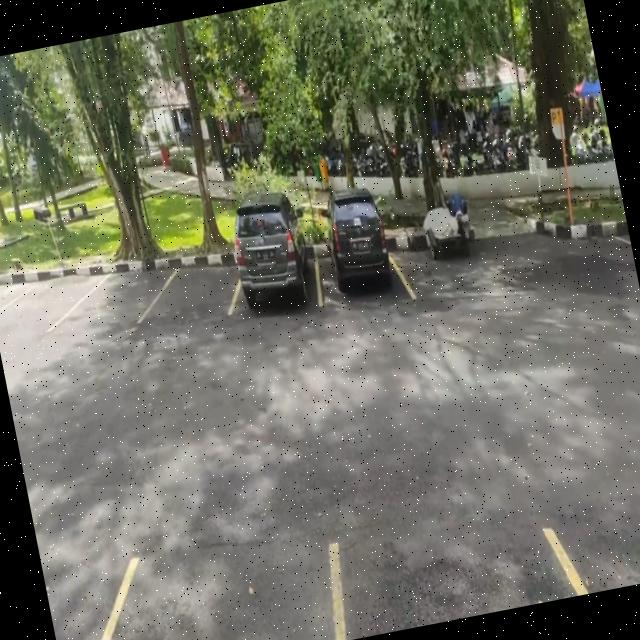empty: (146, 242, 242, 331), (63, 254, 159, 338)
occupied: (302, 190, 405, 310), (223, 210, 323, 321)
